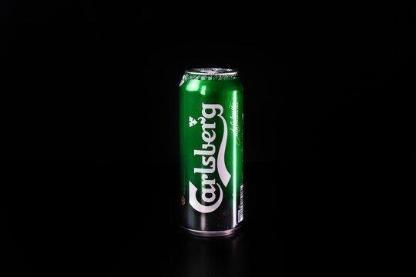Can: (177, 65, 245, 239)
